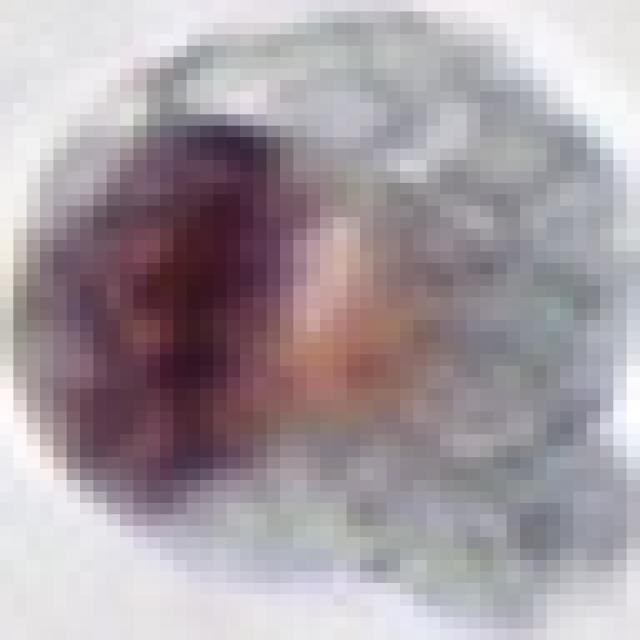nucleus: (0, 74, 359, 531)
